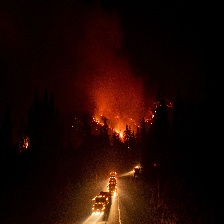fire: (90, 115, 152, 143)
